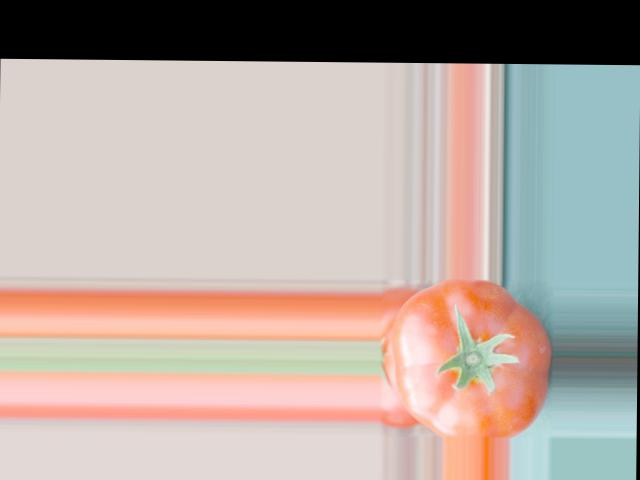tomato: (390, 277, 551, 438)
